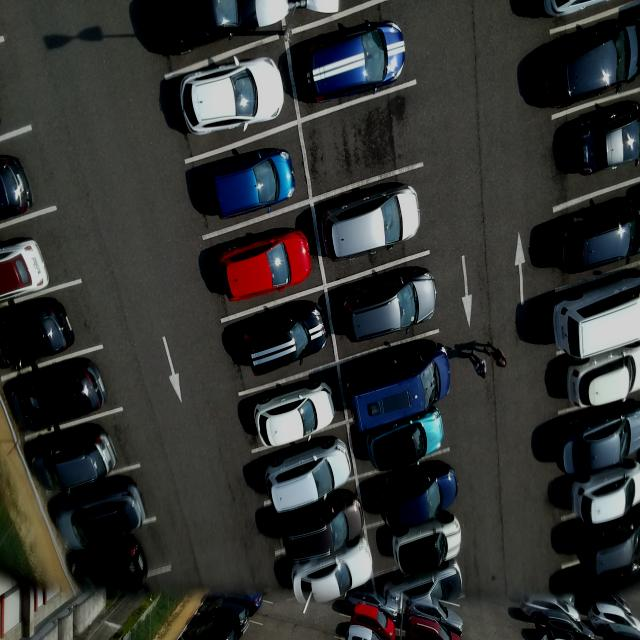car: (302, 14, 407, 109), (535, 19, 640, 110), (177, 53, 287, 138), (348, 349, 453, 432), (322, 184, 425, 266), (340, 263, 439, 348), (263, 433, 355, 517), (10, 357, 108, 434), (219, 228, 313, 305), (207, 145, 297, 225), (556, 196, 640, 278), (558, 401, 640, 482), (240, 303, 329, 377), (31, 421, 120, 494), (274, 489, 365, 559), (56, 480, 146, 550), (253, 380, 336, 450), (363, 408, 447, 475), (570, 109, 640, 189), (375, 463, 461, 528), (560, 346, 640, 410), (571, 456, 640, 527), (392, 511, 463, 574)
free_space: (298, 79, 425, 203)
